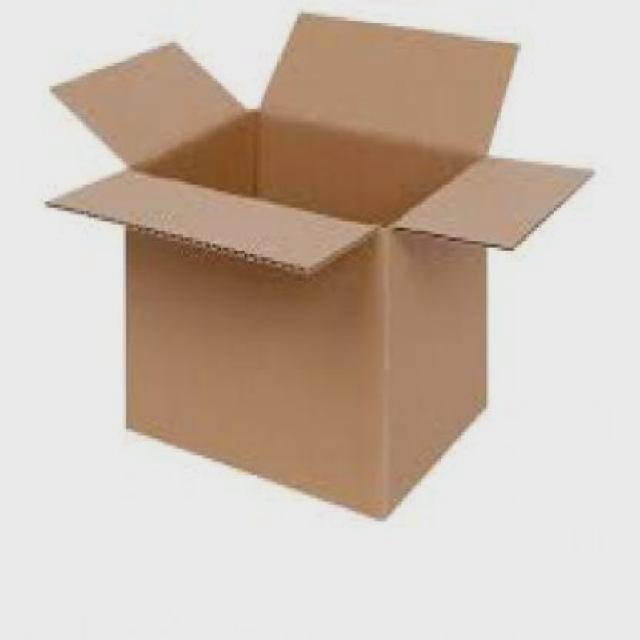box: (42, 10, 596, 521)
opened: (43, 10, 595, 275)
